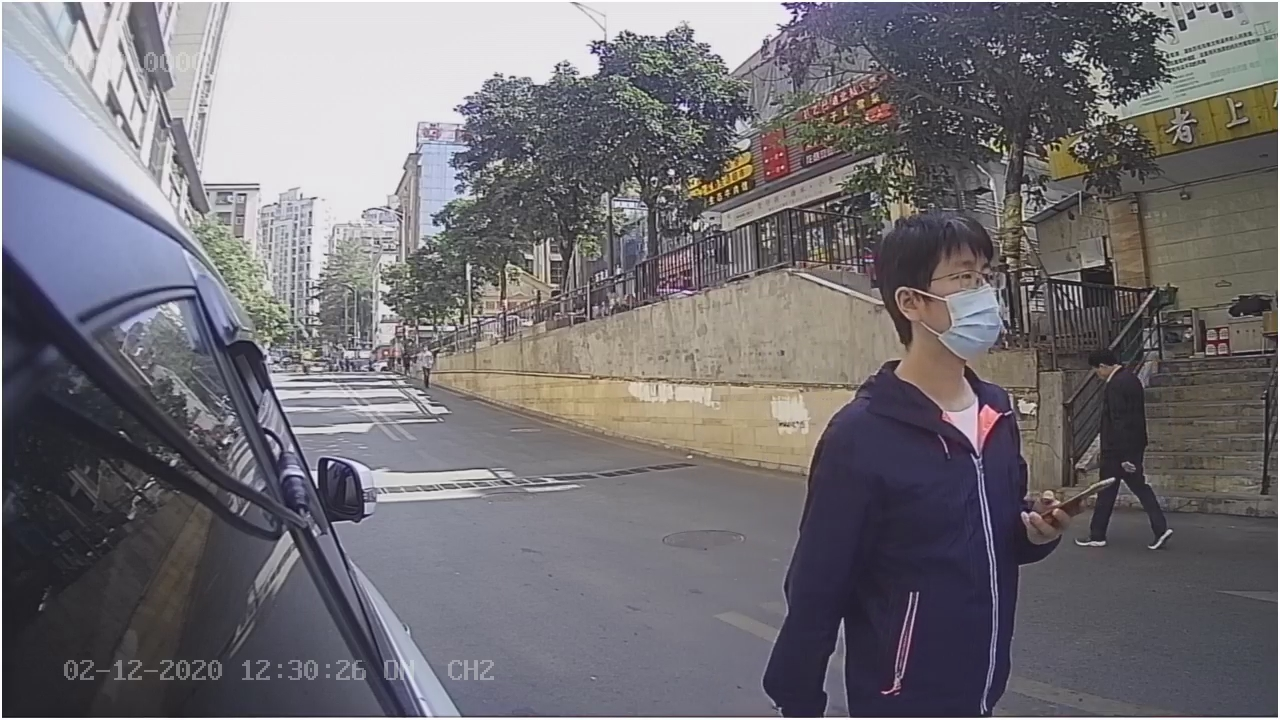person: (791, 196, 1085, 579)
